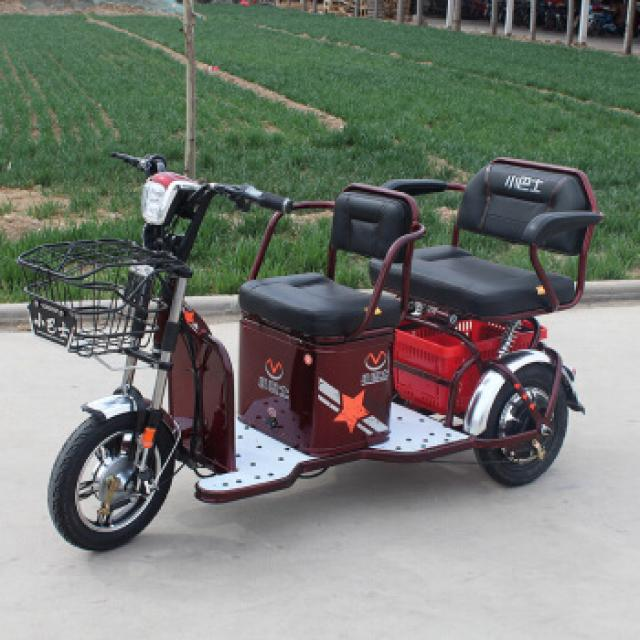tricycle: (18, 150, 606, 550)
